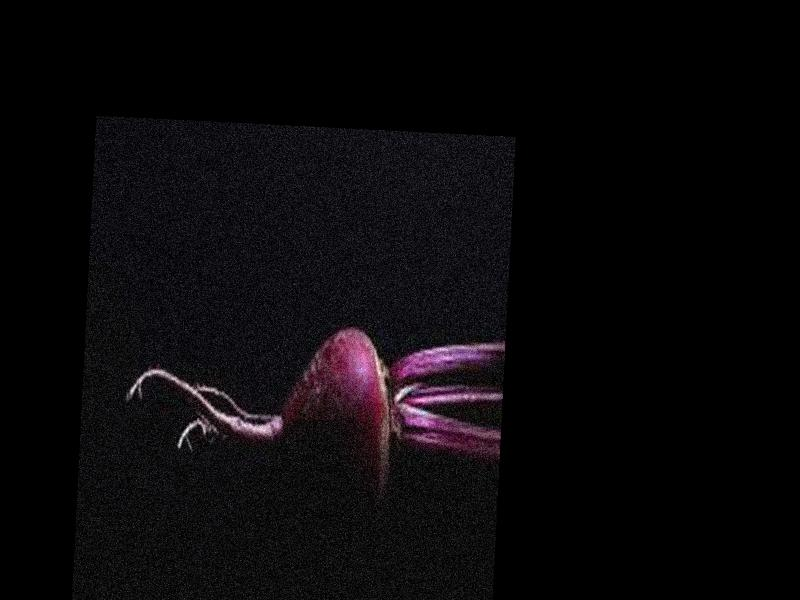Beet: (120, 304, 504, 528)
